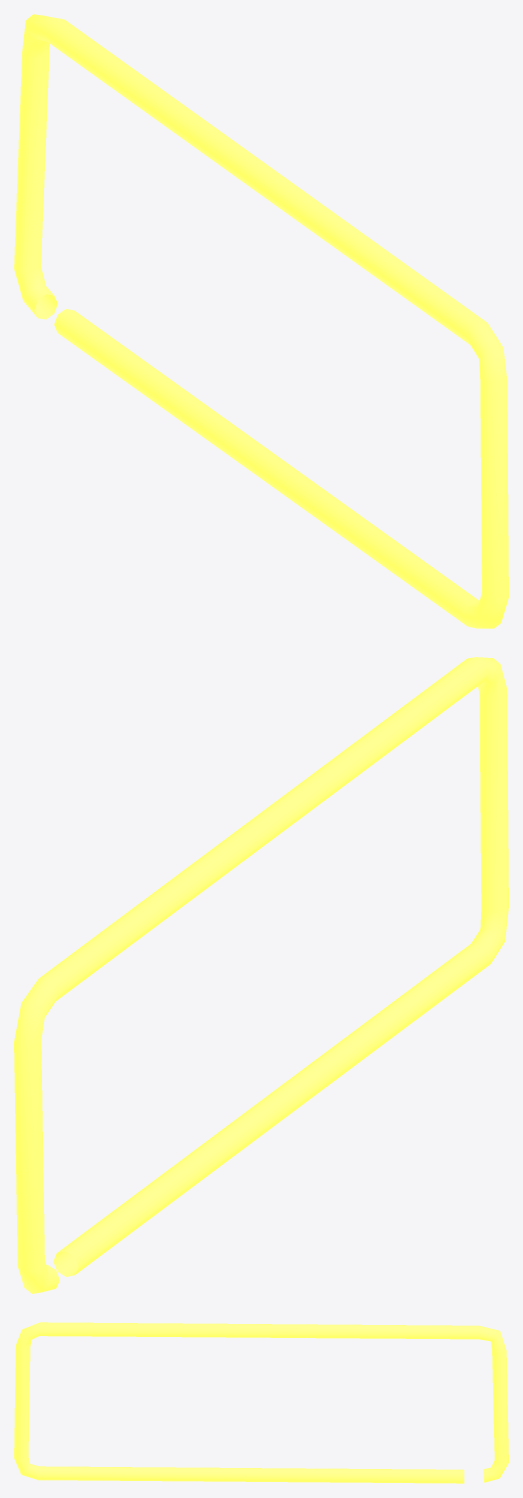
File: NeonLights_BOX2.fbx
3 views of the same model, one above another, from view 1: azimuth 30°, elevation 25°; view 2: azimuth 150°, elevation 25°; view 3: azimuth 270°, elevation 25° (orthographic). The views are drawn at different scales.
Parts seen in each view (by area): view 1: Box; view 2: Box; view 3: Box.
Part boxes in pixels (<box>): Box: <box>14,14,508,628</box>; Box: <box>14,657,508,1293</box>; Box: <box>14,1322,508,1483</box>.
Bounding box in the file's own units: 22.48 × 217 × 601.
